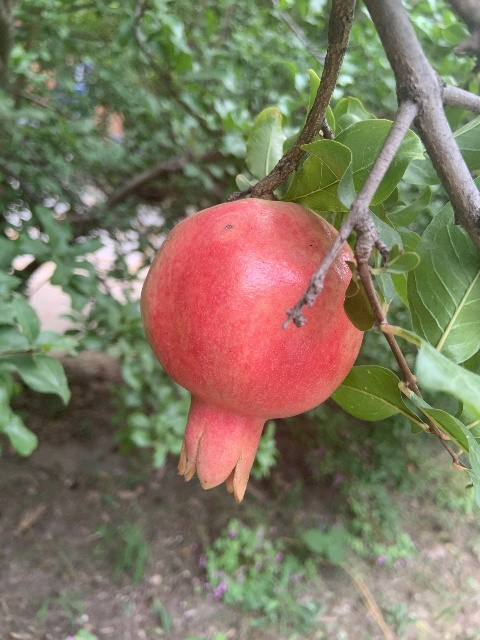ripe: (140, 196, 366, 506)
